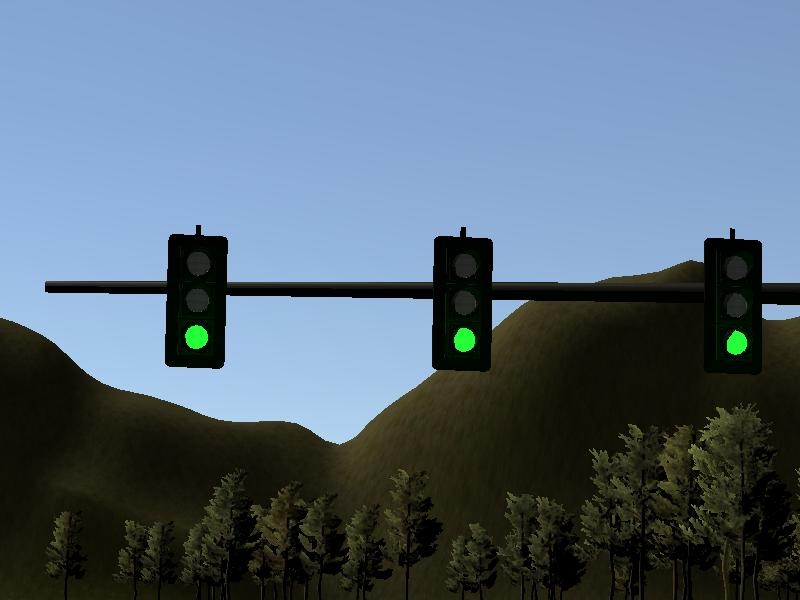GREEN: (432, 234, 492, 371), (704, 240, 764, 372), (167, 233, 224, 368)
